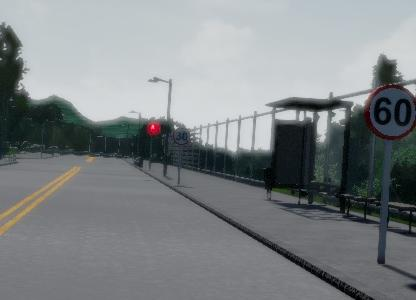Speed_60: (362, 81, 416, 140)
